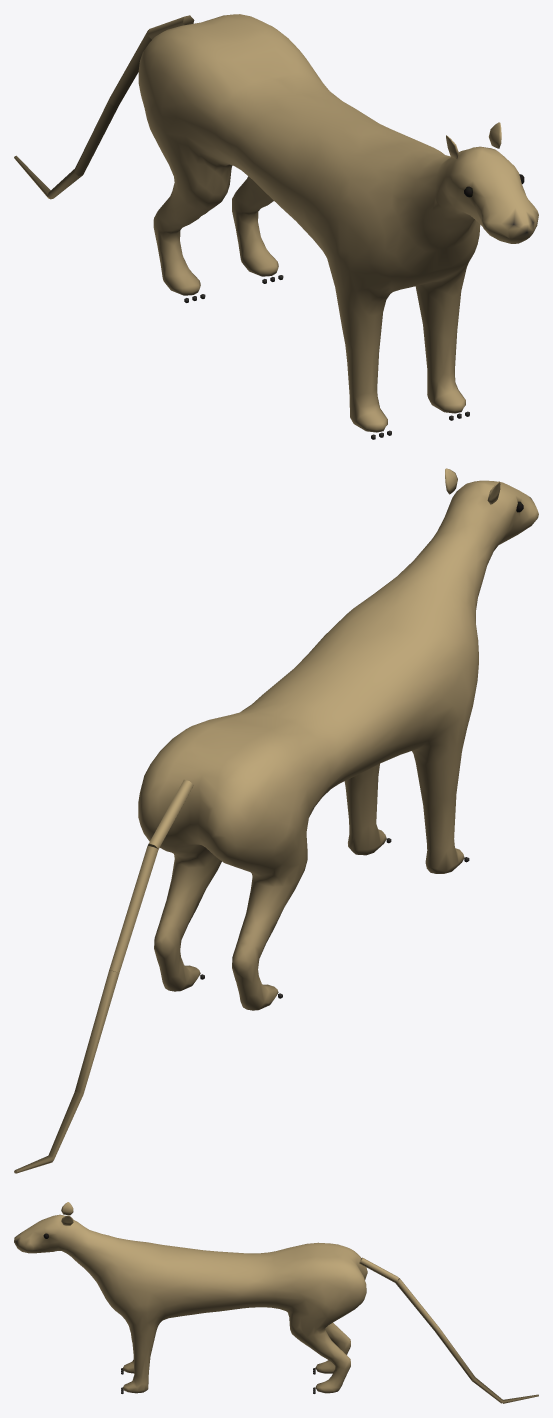
The model's file is leopard.glb.
3 renders of one model, top to bottom at view 1: azimuth 30°, elevation 25°; view 2: azimuth 150°, elevation 25°; view 3: azimuth 270°, elevation 25°, orthographic. The views are drawn at different scales.
Visible parts, largest first — view 1: lack; view 2: lack; view 3: lack.
Part boxes in pixels (x1=…): lack: x1=14, y1=14, x2=538, y2=439; lack: x1=14, y1=468, x2=538, y2=1173; lack: x1=14, y1=1202, x2=538, y2=1403.
Size of the model in its own units: 0.3666 by 0.9476 by 2.31.
